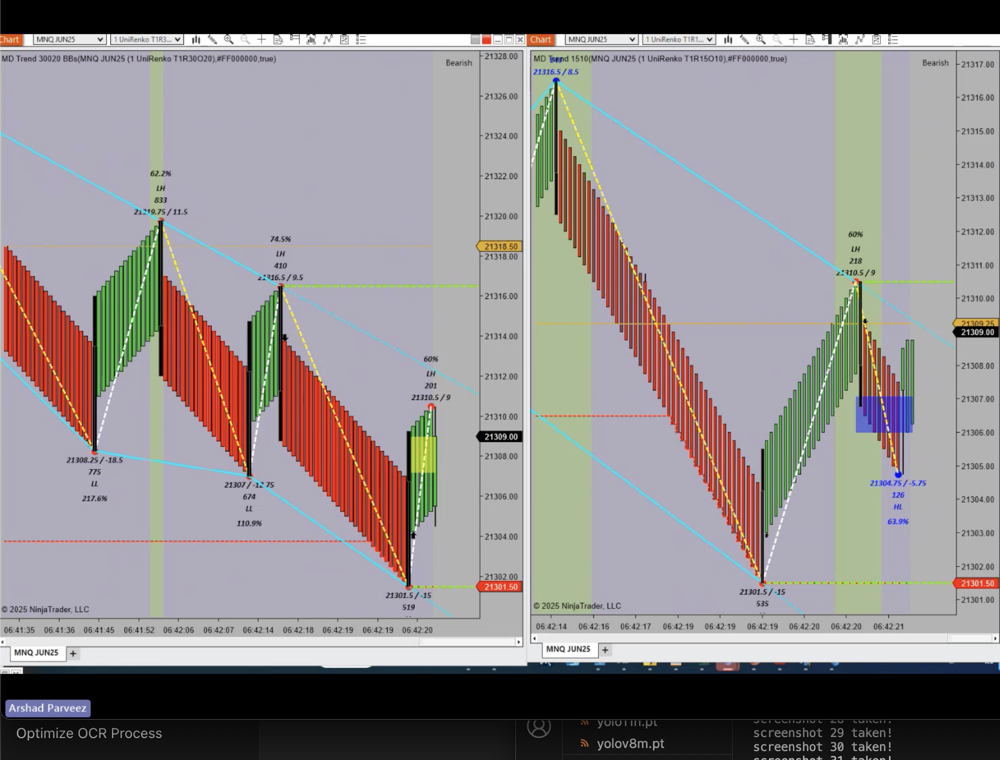HL: (887, 498, 909, 517)
LH: (269, 245, 293, 262), (151, 179, 171, 196), (423, 366, 442, 383), (847, 240, 866, 256)
LL: (241, 500, 259, 516), (88, 472, 103, 491)
